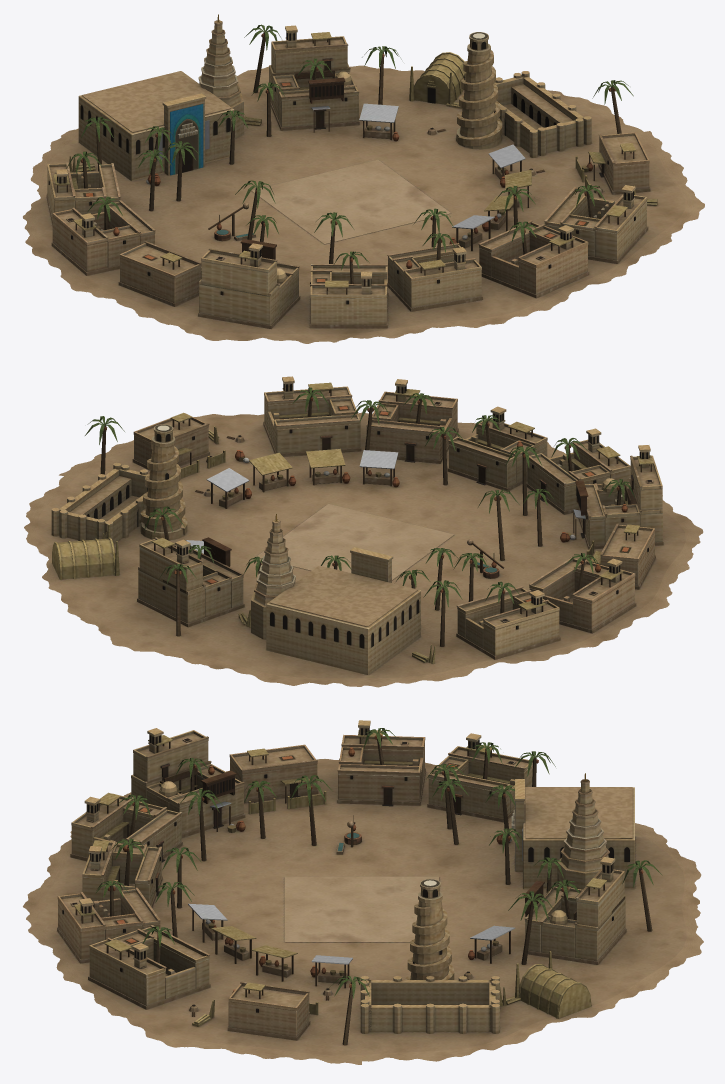
Rendered from kingdoms-town-medium-b-mesopotamia.glb.
3 views of the same model, one above another, from view 1: azimuth 30°, elevation 25°; view 2: azimuth 150°, elevation 25°; view 3: azimuth 270°, elevation 25° (orthographic). The views are drawn at different scales.
Parts seen in each view (by area): view 1: LOD0; view 2: LOD0; view 3: LOD0.
Boxes of the visible parts, x1,y1,x2,y2 form: LOD0: (23, 14, 704, 343); LOD0: (24, 376, 703, 687); LOD0: (23, 720, 703, 1064).
Size of what is drawn, in the model's own units: 5.92 by 1.12 by 5.6.
Materials: 3 (3 with a texture image).
